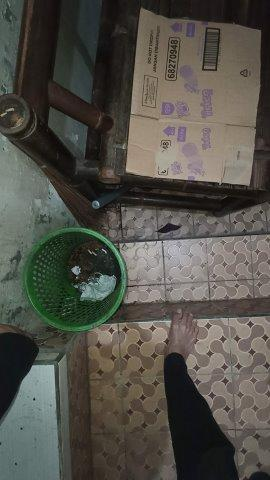kardus: (126, 9, 260, 185)
